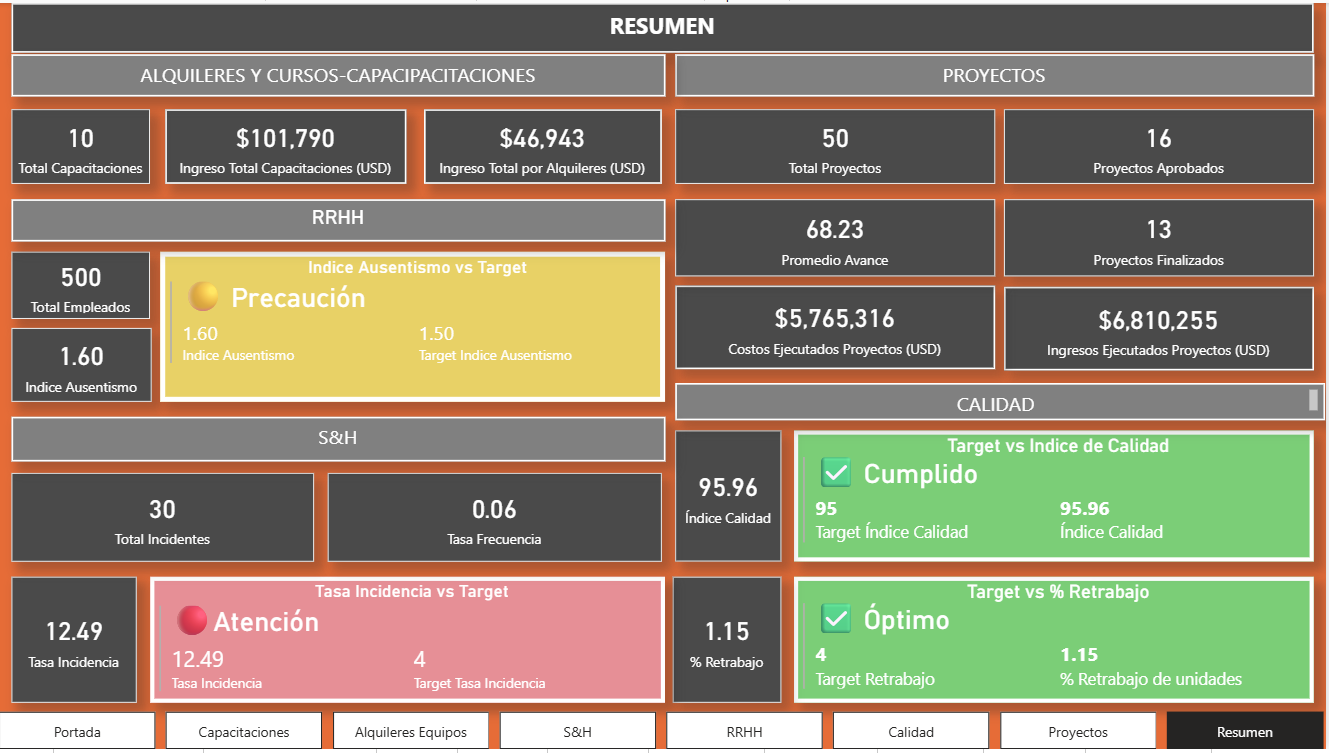

This screenshot's page, from the dashboard's own definition file:
{"tool":"powerbi","page":{"name":"Resumen","canvas":[1280,720],"ordinal":7},"visuals":[{"type":"card","fields":{"Values":["Proyectos.Ingresos_Ejecutados_Proyectos"]},"box":[970,273.9,299.2,80.8],"z":0},{"type":"card","fields":{"Values":["Proyectos.Costos_Ejecutados_Proyectos"]},"box":[652.7,272.7,308.8,80.8],"z":1000},{"type":"card","fields":{"Values":["Proyectos.Total_Proyectos"]},"box":[652.7,102.5,308.8,72.4],"z":2000},{"type":"card","fields":{"Values":["Proyectos.Proyectos_Aprobados"]},"box":[970,102.5,299.2,72.4],"z":3000},{"type":"multiRowCard","title":"Target vs % Retrabajo","fields":{"Values":["Tabla_Inspecciones_Gestion_Calidad.Target_Retrabajo","Tabla_Inspecciones_Gestion_Calidad.%_Retrabajo_de_unidades","Tabla_Inspecciones_Gestion_Calidad.Estado_Retrabajo"]},"box":[767.3,553.8,501.9,121.9],"z":4000},{"type":"multiRowCard","title":"Target vs Indice de Calidad","fields":{"Values":["Tabla_Inspecciones_Gestion_Calidad.Estado_Índice_Calidad","Tabla_Inspecciones_Gestion_Calidad.Target_Índice_Calidad","Tabla_Inspecciones_Gestion_Calidad.Índice_Calidad"]},"box":[767.3,412.6,501.9,126.7],"z":5000},{"type":"card","title":"Ingreso Total por Cursos/Capacitaciones (en USD)","fields":{"Values":["capacitaciones_petroleras.Ingreso_Total_Capacitaciones"]},"box":[160.5,102.5,232.8,72.4],"z":6000},{"type":"card","title":"Total Capacitaciones","fields":{"Values":["capacitaciones_petroleras.Total_Capacitaciones"]},"box":[12.1,102.5,133.9,72.4],"z":7000},{"type":"card","fields":{"Values":["empleados_actualizado.Total_Empleados"]},"box":[12.1,240.1,133.9,65.1],"z":8000},{"type":"card","fields":{"Values":["horas_trabajadas_actualizado.Indice_Ausentismo"]},"box":[12.1,313.7,135.1,71.2],"z":9000},{"type":"multiRowCard","title":"Indice Ausentismo vs Target","fields":{"Values":["horas_trabajadas_actualizado.Indice_Ausentismo","horas_trabajadas_actualizado.Estado_Indice_Ausentismo","horas_trabajadas_actualizado.Target_Indice_Ausentismo"]},"box":[155.6,240.1,487.4,144.8],"z":10000},{"type":"card","fields":{"Values":["Tabla_Inspecciones_Gestion_Calidad.Índice_Calidad"]},"box":[652.7,412.6,102.5,126.7],"z":11000},{"type":"card","fields":{"Values":["Tabla_Inspecciones_Gestion_Calidad.%_Retrabajo_de_unidades"]},"box":[650.3,553.8,105,121.9],"z":12000},{"type":"card","title":"Ingreso Total Por Alquileres (en USD)","fields":{"Values":["Sum(Alquileres_Equipos.IngresoTotalUSD)"]},"box":[410.2,102.5,229.2,72.4],"z":13000},{"type":"card","title":"Tasa de incidencia (accidentes por cada 1.000 hs trabajadas)","fields":{"Values":["incidentes.Tasa_Incidencia"]},"box":[12.1,553.8,120.6,121.9],"z":14000},{"type":"multiRowCard","title":"Tasa Incidencia vs Target","fields":{"Values":["incidentes.Tasa_Incidencia","incidentes.Target_Tasa_Incidencia","incidentes.Estado_Tasa_Incidencia"]},"box":[146,553.8,497.1,121.9],"z":15000},{"type":"card","title":"Total accidentes","fields":{"Values":["capacitaciones_petroleras.Total_Incidentes"]},"box":[12.1,453.6,292,85.7],"z":16000},{"type":"card","title":"Tasa de frecuencia de accidentes","fields":{"Values":["incidentes.Tasa_Frecuencia"]},"box":[317.3,453.6,322.1,85.7],"z":17000},{"type":"card","fields":{"Values":["Proyectos.Promedio_Avance"]},"box":[652.7,189.4,308.8,74.8],"z":18000},{"type":"card","fields":{"Values":["Proyectos.Proyectos_Finalizados"]},"box":[970,189.4,299.2,74.8],"z":19000},{"type":"textbox","box":[12.1,0,1257.1,48.3],"z":20000},{"type":"textbox","box":[652.7,49.5,616.5,41],"z":21000},{"type":"textbox","box":[652.7,366.8,627.3,36.2],"z":22000},{"type":"textbox","box":[12.1,49.5,631,41],"z":23000},{"type":"textbox","box":[12.1,189.4,631,41],"z":24000},{"type":"textbox","box":[12.1,399.3,631,43.4],"z":25000},{"type":"pageNavigator","box":[0,683.8,1280,36.2],"z":26000}]}

Visuals, with their boxes in screenshot pixels (x1, y1, x2, y2), scaled from the page's 1280x720 canvas onto the 1329x753 screenshot:
card - Proyectos.Ingresos_Ejecutados_Proyectos: box(1007, 286, 1318, 371)
card - Proyectos.Costos_Ejecutados_Proyectos: box(678, 285, 998, 370)
card - Proyectos.Total_Proyectos: box(678, 107, 998, 183)
card - Proyectos.Proyectos_Aprobados: box(1007, 107, 1318, 183)
"Target vs % Retrabajo" multiRowCard: box(797, 579, 1318, 707)
"Target vs Indice de Calidad" multiRowCard: box(797, 432, 1318, 564)
"Ingreso Total por Cursos/Capacitaciones (en USD)" card: box(167, 107, 408, 183)
"Total Capacitaciones" card: box(13, 107, 152, 183)
card - empleados_actualizado.Total_Empleados: box(13, 251, 152, 319)
card - horas_trabajadas_actualizado.Indice_Ausentismo: box(13, 328, 153, 403)
"Indice Ausentismo vs Target" multiRowCard: box(162, 251, 668, 403)
card - Tabla_Inspecciones_Gestion_Calidad.Índice_Calidad: box(678, 432, 784, 564)
card - Tabla_Inspecciones_Gestion_Calidad.%_Retrabajo_de_unidades: box(675, 579, 784, 707)
"Ingreso Total Por Alquileres (en USD)" card: box(426, 107, 664, 183)
"Tasa de incidencia (accidentes por cada 1.000 hs trabajadas)" card: box(13, 579, 138, 707)
"Tasa Incidencia vs Target" multiRowCard: box(152, 579, 668, 707)
"Total accidentes" card: box(13, 474, 316, 564)
"Tasa de frecuencia de accidentes" card: box(329, 474, 664, 564)
card - Proyectos.Promedio_Avance: box(678, 198, 998, 276)
card - Proyectos.Proyectos_Finalizados: box(1007, 198, 1318, 276)
textbox: box(13, 0, 1318, 51)
textbox: box(678, 52, 1318, 95)
textbox: box(678, 384, 1328, 421)
textbox: box(13, 52, 668, 95)
textbox: box(13, 198, 668, 241)
textbox: box(13, 418, 668, 463)
pageNavigator: box(0, 715, 1328, 752)
